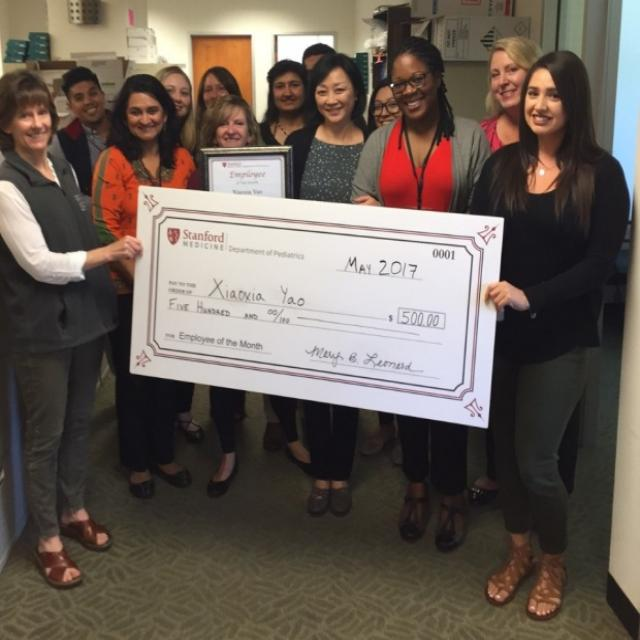body: (463, 44, 632, 626), (0, 64, 145, 594), (349, 34, 493, 553), (466, 34, 584, 511), (86, 68, 212, 502), (185, 92, 315, 500), (279, 49, 378, 520), (56, 66, 140, 430), (152, 64, 210, 442), (257, 58, 323, 200), (191, 64, 242, 115), (366, 82, 404, 138), (302, 40, 338, 67)
